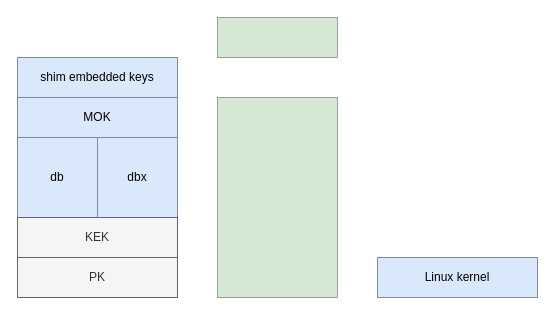
Some shapes in this 555 by 315 pixel diagram are drawn without their labels. Here are the shapes that lost their labels. From the top down, the centre of each, then its label:
[277,37]: GRUB2
[277,197]: UEFI Firmware
